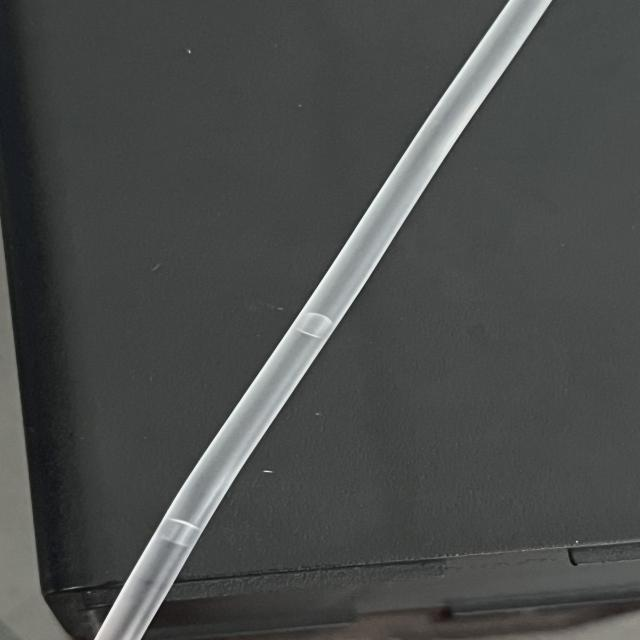bubble: (144, 505, 222, 546), (281, 302, 343, 352)
